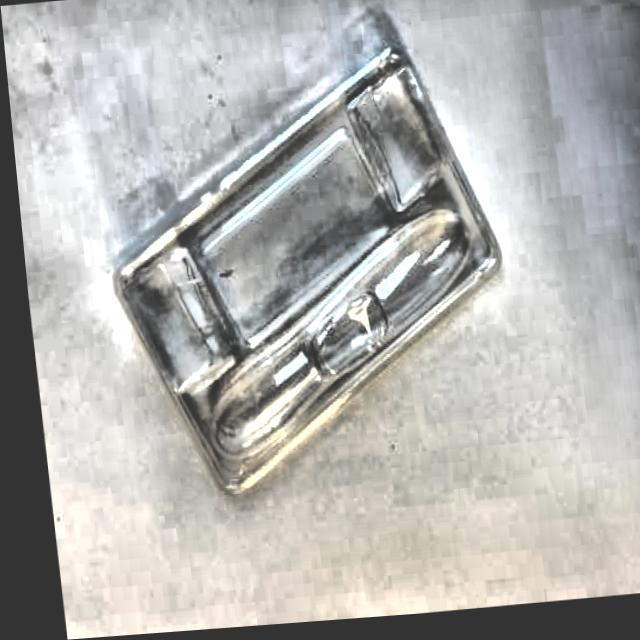Plastic: (83, 37, 546, 506)
